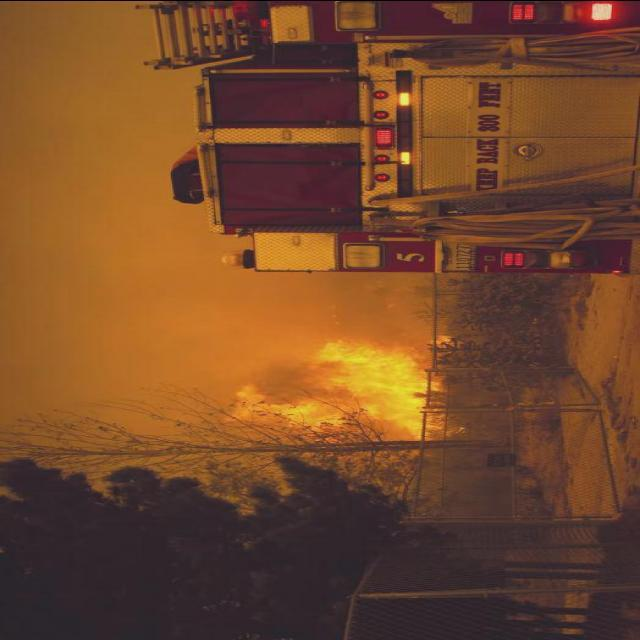Fire: (210, 332, 468, 442)
